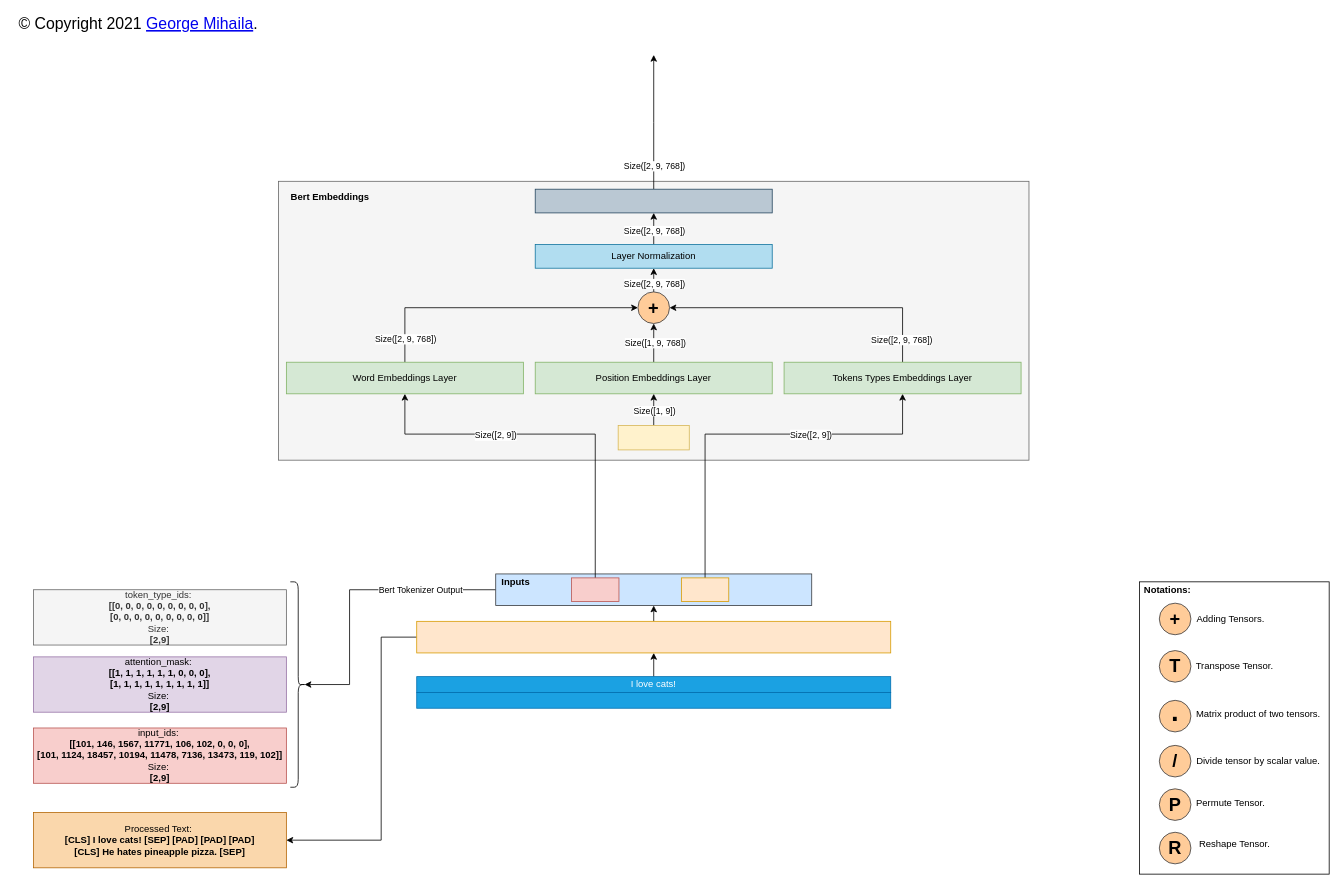
This 1343x888 diagram has some shape labels left out. Here are the shapes that lost their labels. From the top down, the centre of each, then its label:
(x=653, y=200): Dropout Layer p=0.1
(x=653, y=437): Created Tokens Positions IDs
(x=595, y=589): Tokens IDs
(x=705, y=589): Tokens Types IDs
(x=653, y=637): Bert Tokenizer
(x=653, y=700): He hates pineapple pizza.
